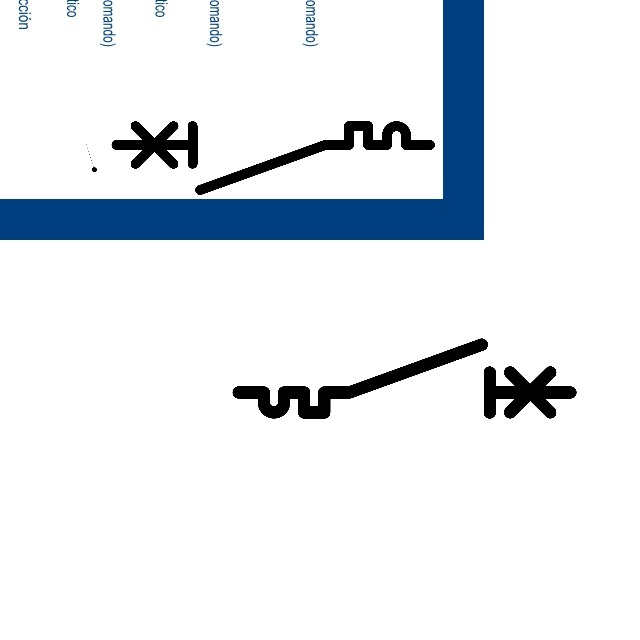interruptor_termomagnetico: (230, 336, 579, 421), (108, 118, 438, 198)
